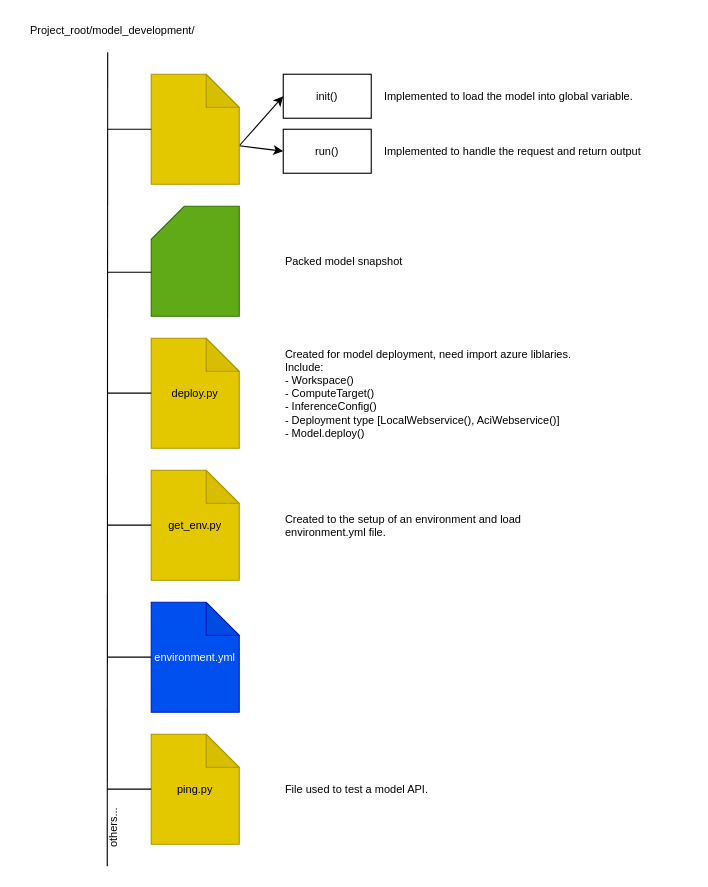
Image size: 708x887. Some labels were removed from this diagram. The box of each missing label's shape, as (x1, y1, x2, y2) in pixels:
Model file: (150, 205, 239, 316)
model.py: (150, 73, 239, 184)
